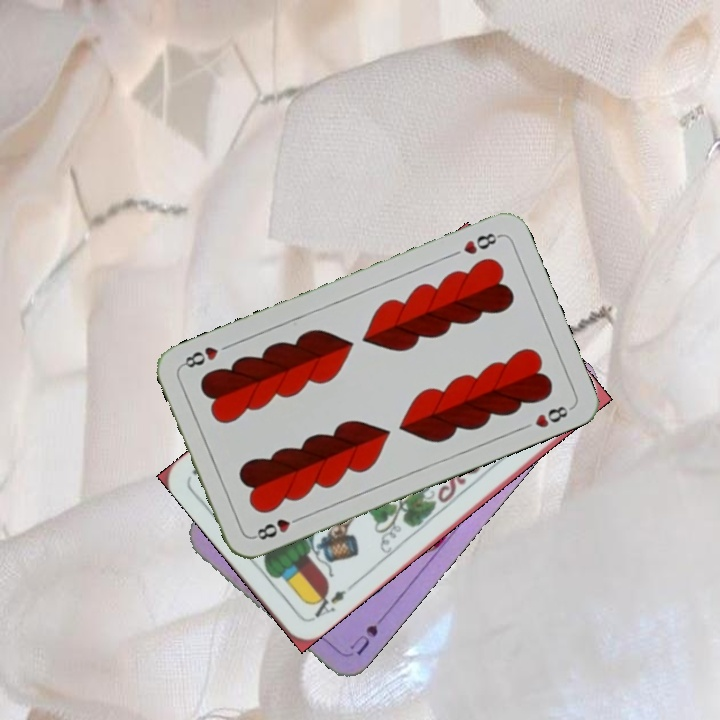EA: (306, 585, 349, 624)
H8: (249, 512, 306, 543), (459, 229, 503, 257)
SU: (345, 606, 393, 659)
